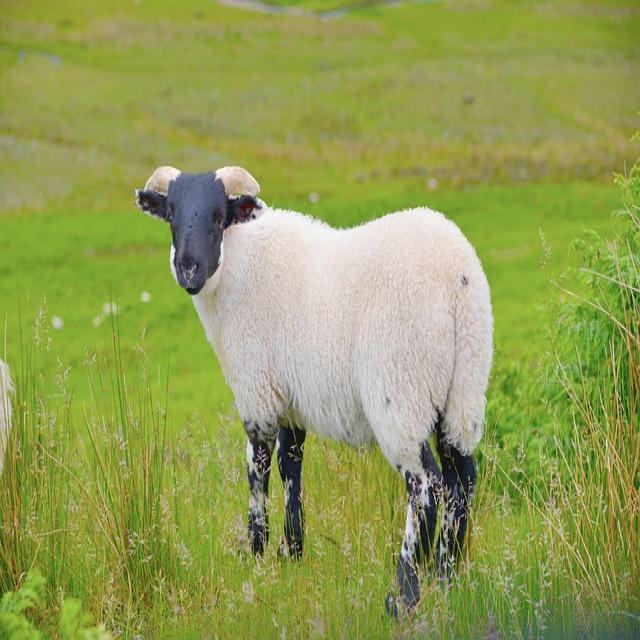goat: (135, 166, 495, 616)
